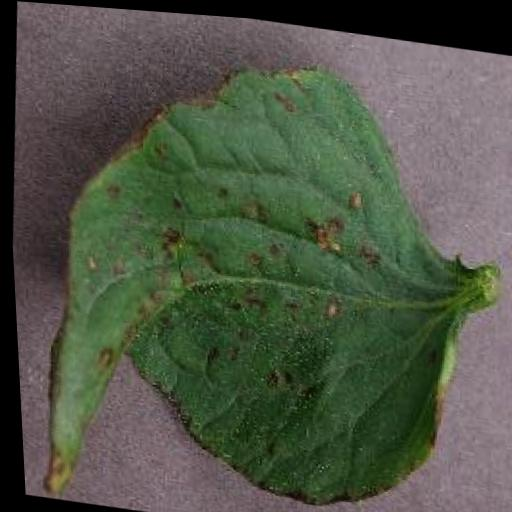Bacterial Spot: (6, 16, 512, 512)
